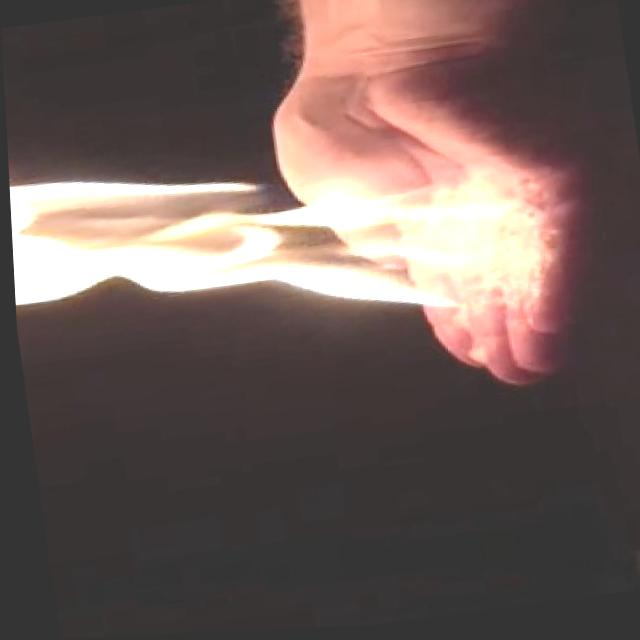Fire: (5, 113, 533, 367)
